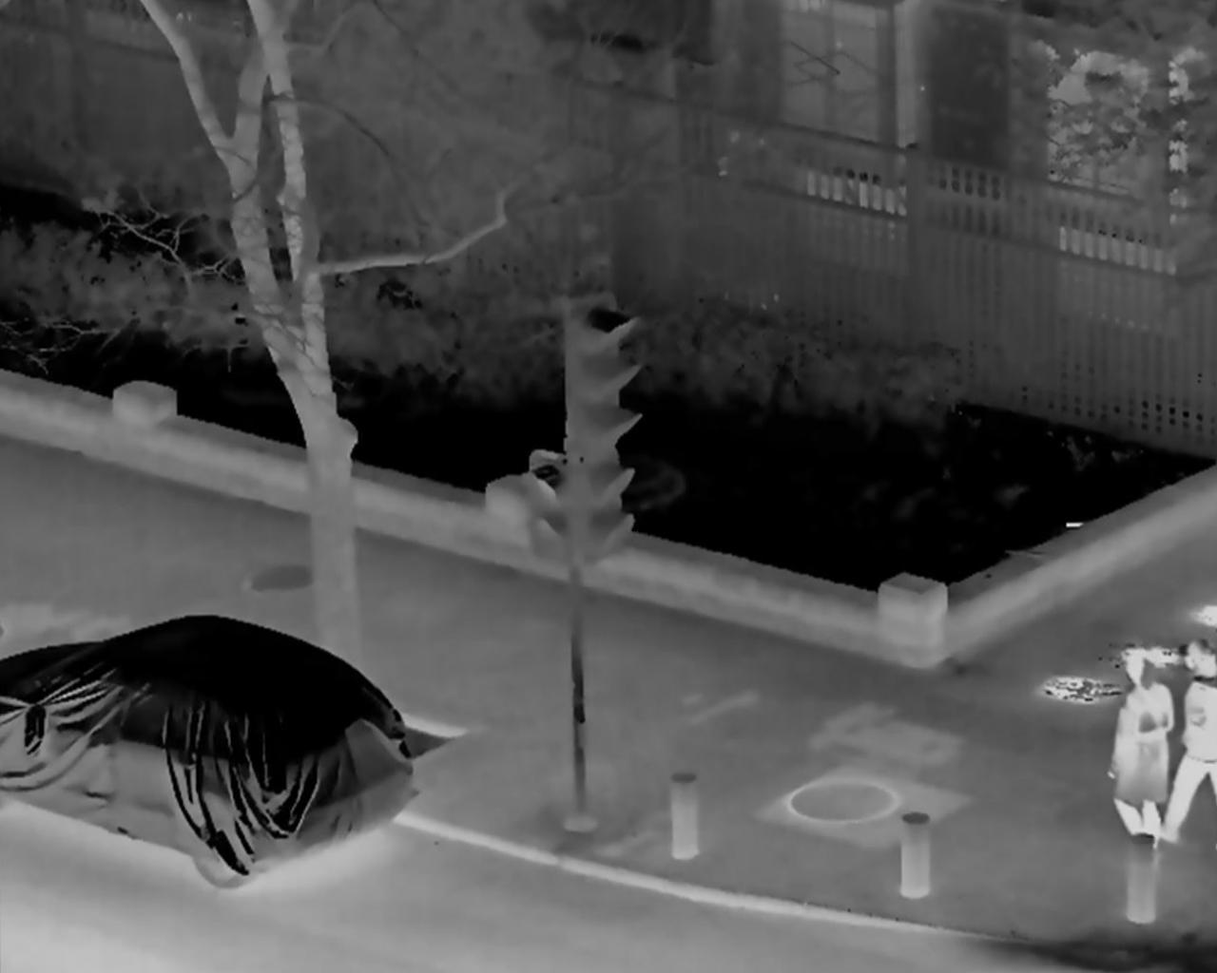person: (1104, 655, 1166, 852), (1165, 638, 1217, 843)
